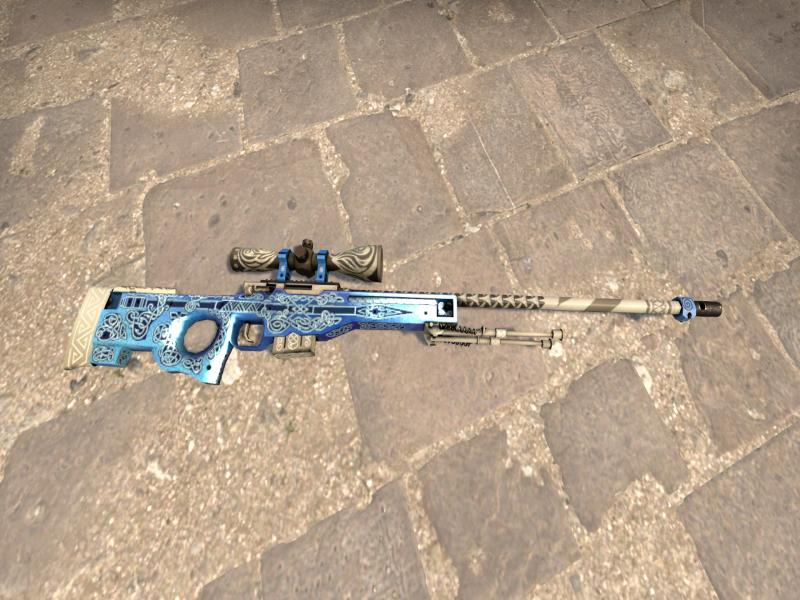AWP: (54, 195, 785, 409)
